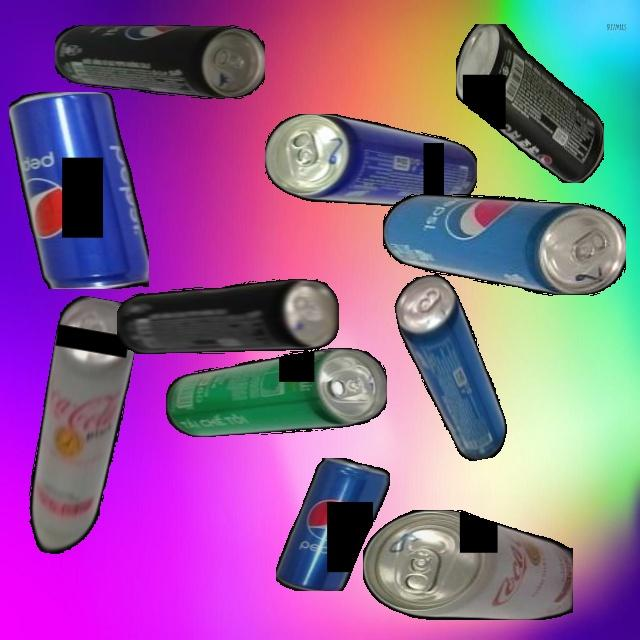debris: (19, 293, 142, 561), (9, 91, 149, 289), (382, 194, 626, 296), (391, 267, 511, 469), (455, 23, 604, 183), (363, 509, 573, 620), (265, 113, 477, 207), (165, 348, 387, 437), (116, 279, 339, 354), (54, 25, 265, 99), (276, 457, 390, 591)
